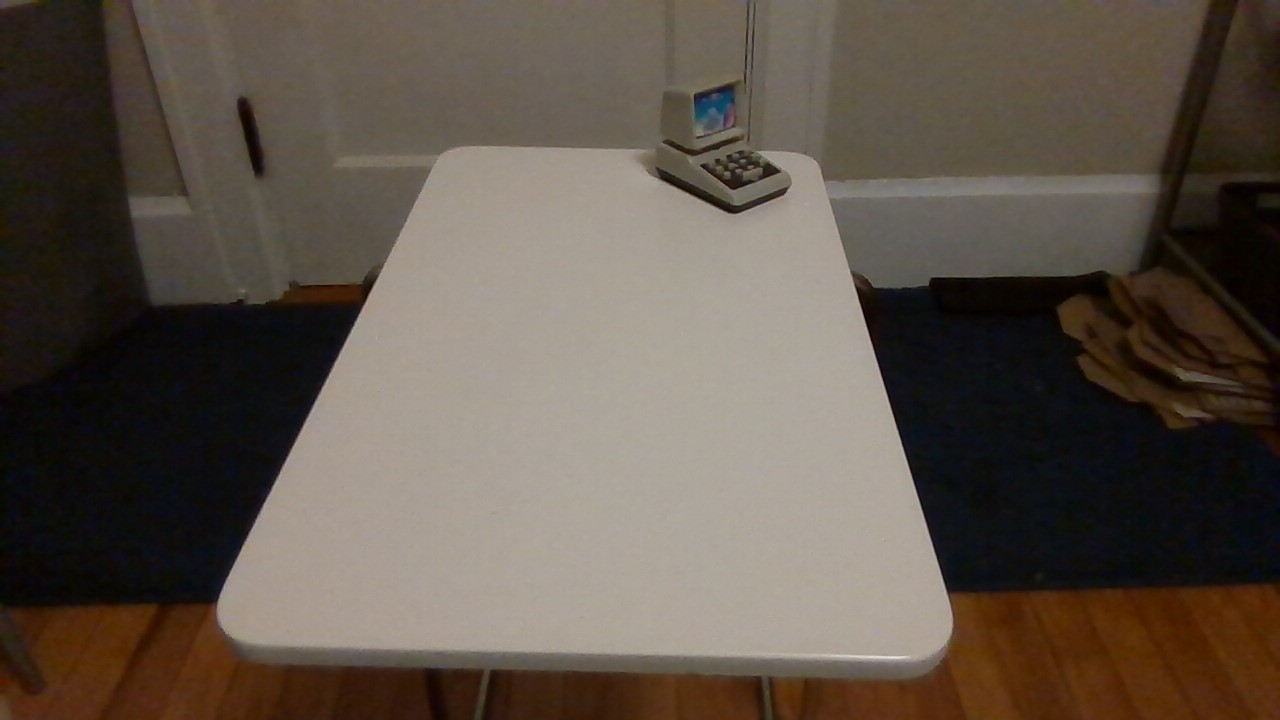Toy: (608, 57, 815, 229)
